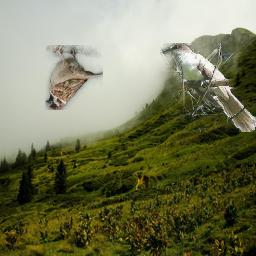Cuckoo: (160, 44, 256, 133)
Sparrow: (45, 46, 103, 111)
